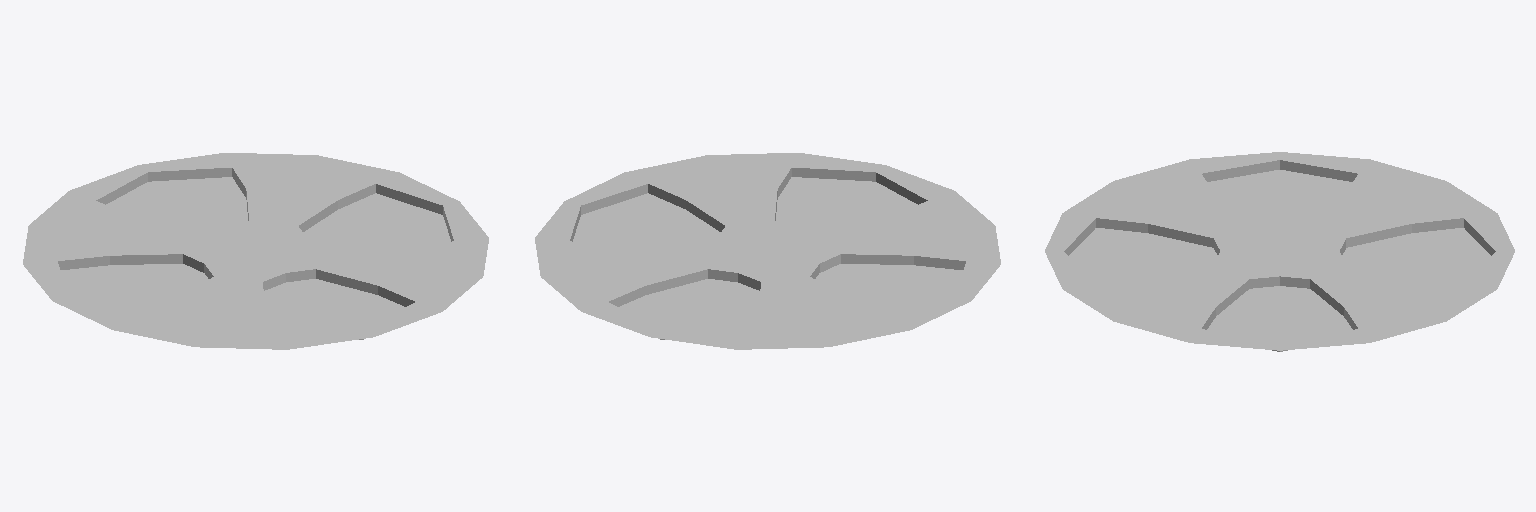
The model's file is cylinder_top_polar_four.obj.
3 views of the same model, side by side, from view 1: azimuth 30°, elevation 25°; view 2: azimuth 150°, elevation 25°; view 3: azimuth 270°, elevation 25° (orthographic).
Parts seen in each view (by area): view 1: cylinder_top_polar_four; view 2: cylinder_top_polar_four; view 3: cylinder_top_polar_four.
Boxes of the visible parts, x1,y1,x2,y2 form: cylinder_top_polar_four: [23, 153, 488, 349]; cylinder_top_polar_four: [535, 153, 1000, 349]; cylinder_top_polar_four: [1045, 152, 1514, 351].
Size of the model in its own units: 2.16 by 0.048 by 2.16.